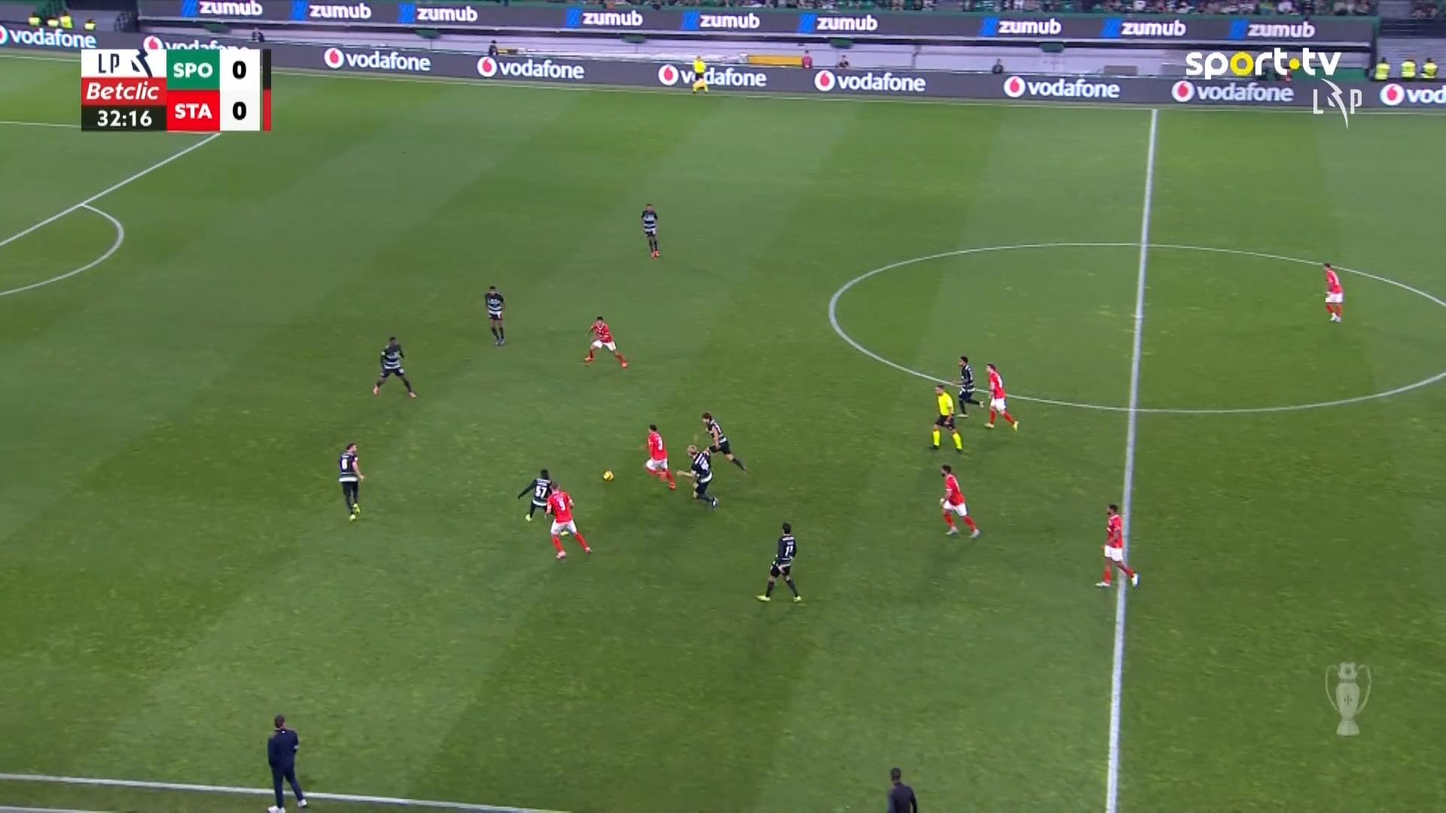ball: (602, 469, 613, 481)
player: (755, 521, 803, 602), (1094, 503, 1139, 589), (543, 483, 593, 559), (938, 463, 981, 538), (700, 410, 748, 473), (676, 442, 718, 510), (371, 335, 416, 398), (983, 361, 1019, 431), (581, 315, 628, 368), (641, 423, 676, 490), (337, 441, 365, 520), (517, 468, 554, 521), (955, 355, 983, 417), (1322, 260, 1344, 322), (484, 284, 506, 346), (639, 202, 660, 258)
referee: (266, 713, 308, 811), (928, 383, 963, 452), (886, 766, 918, 811), (690, 53, 709, 94)
